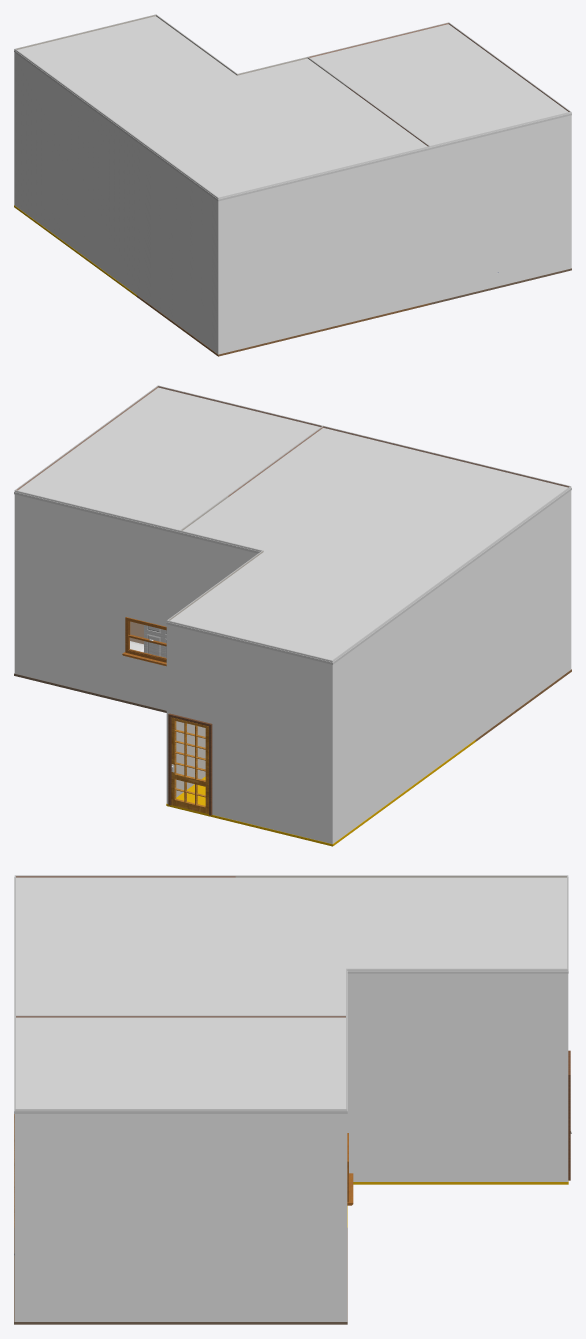
File: ProcTHOR-Train-160.glb
The picture shows the model from 3 angles, top to bottom: view 1: azimuth 30°, elevation 25°; view 2: azimuth 150°, elevation 25°; view 3: azimuth 270°, elevation 25°; orthographic projection. The views are drawn at different scales.
Visible parts, largest first — view 1: WallInside#wall|exterior|3.98|9.96|9.96|9.96, WallInside#wall|exterior|0.00|9.96|3.98|9.96, Ceiling#room|6|c, WallInside#wall|exterior|9.96|0.00|9.96|5.97, Ceiling#room|7|c, Ceiling#room|2|c, WallInside#wall|exterior|9.96|5.97|9.96|9.96, Floor#room|7|f; view 2: Ceiling#room|6|c, WallInside#wall|exterior|0.00|3.98|3.98|3.98, WallInside#wall|exterior|5.97|0.00|9.96|0.00, WallInside#wall|exterior|9.96|0.00|9.96|5.97, Ceiling#room|7|c, Ceiling#room|2|c, WallInside#wall|exterior|9.96|5.97|9.96|9.96, WallInside#wall|exterior|3.98|3.98|5.97|3.98, Doorway_5, WallInside#wall|6|5.97|0.00|5.97|3.98, Floor#room|6|f, Window_Hung_48x32 (+3 smaller); view 3: WallInside#wall|exterior|0.00|3.98|0.00|9.96, WallInside#wall|exterior|5.97|0.00|5.97|3.98, Ceiling#room|6|c, Ceiling#room|2|c, Ceiling#room|7|c, Floor#room|2|f, WallInside#wall|6|9.96|0.00|9.96|5.97, Floor#room|6|f, WallInside#wall|2|3.98|5.97|3.98|9.96, WallInside#wall|7|9.96|5.97|9.96|9.96.
Part boxes in pixels (x1,y1,x2,y2): WallInside#wall|exterior|3.98|9.96|9.96|9.96: (218, 146, 430, 354); WallInside#wall|exterior|0.00|9.96|3.98|9.96: (430, 112, 571, 302); Ceiling#room|6|c: (14, 16, 346, 141); WallInside#wall|exterior|9.96|0.00|9.96|5.97: (14, 49, 136, 294); Ceiling#room|7|c: (136, 88, 430, 201); Ceiling#room|2|c: (310, 24, 571, 149); WallInside#wall|exterior|9.96|5.97|9.96|9.96: (136, 138, 218, 354); Floor#room|7|f: (137, 295, 430, 356); Ceiling#room|6|c: (166, 497, 475, 664); WallInside#wall|exterior|0.00|3.98|3.98|3.98: (14, 490, 180, 710); WallInside#wall|exterior|5.97|0.00|9.96|0.00: (166, 620, 332, 843); WallInside#wall|exterior|9.96|0.00|9.96|5.97: (332, 556, 476, 843); Ceiling#room|7|c: (228, 428, 571, 559); Ceiling#room|2|c: (14, 387, 322, 534); WallInside#wall|exterior|9.96|5.97|9.96|9.96: (476, 486, 571, 738); WallInside#wall|exterior|3.98|3.98|5.97|3.98: (179, 530, 261, 610); Doorway_5: (168, 713, 212, 815); WallInside#wall|6|5.97|0.00|5.97|3.98: (167, 550, 263, 797); Floor#room|6|f: (166, 739, 476, 846); Window_Hung_48x32: (122, 617, 166, 666); WallInside#wall|exterior|0.00|3.98|0.00|9.96: (14, 1109, 347, 1321); WallInside#wall|exterior|5.97|0.00|5.97|3.98: (346, 969, 568, 1181); Ceiling#room|6|c: (235, 877, 568, 1017); Ceiling#room|2|c: (14, 1018, 347, 1113); Ceiling#room|7|c: (14, 877, 237, 1017); Floor#room|2|f: (14, 1227, 347, 1324); WallInside#wall|6|9.96|0.00|9.96|5.97: (235, 875, 567, 877); Floor#room|6|f: (347, 1180, 568, 1227); WallInside#wall|2|3.98|5.97|3.98|9.96: (16, 1015, 236, 1017); WallInside#wall|7|9.96|5.97|9.96|9.96: (16, 875, 235, 877).
Size of what is drawn, in the model's own units: 10 by 4.28 by 10.06.
Materials: 284 (109 with a texture image).
